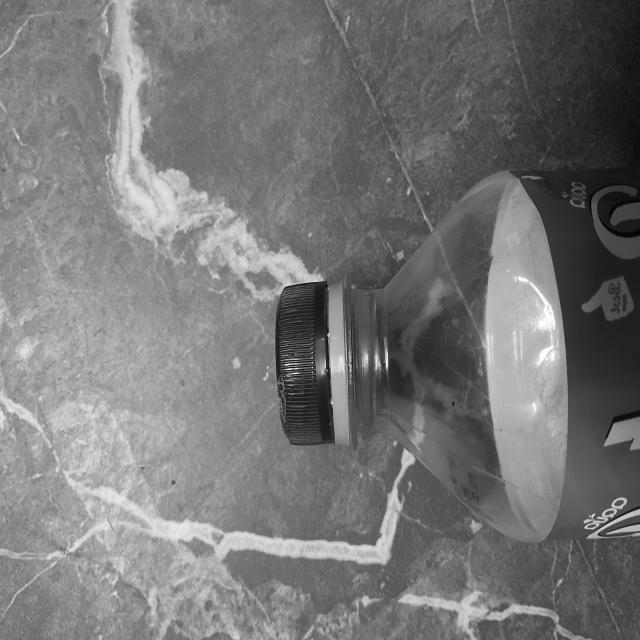Good-cap-Df0S: (270, 275, 354, 457)
